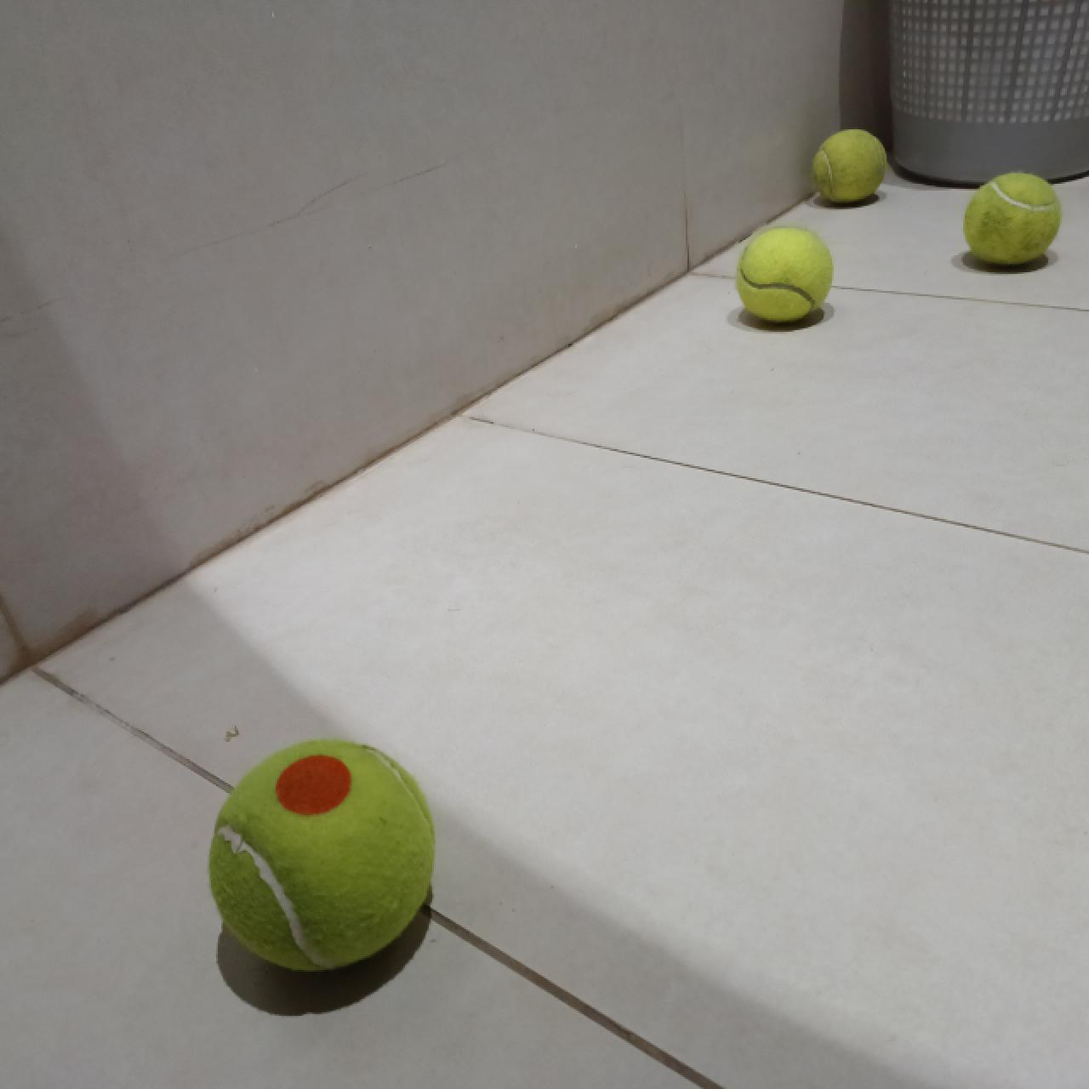tennis-ball: (209, 738, 436, 978), (962, 170, 1061, 266), (739, 227, 834, 325), (814, 127, 886, 206)
